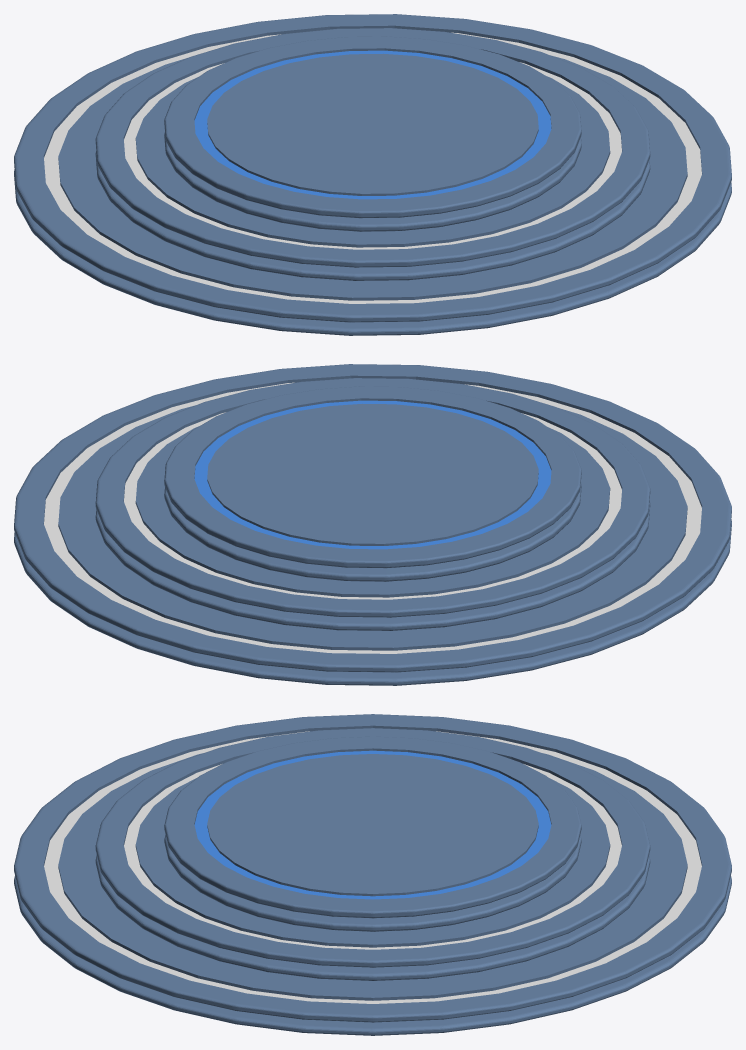
The model's file is Projecteur.fbx.
3 renders of one model, top to bottom at view 1: azimuth 30°, elevation 25°; view 2: azimuth 150°, elevation 25°; view 3: azimuth 270°, elevation 25°, orthographic.
Parts seen in each view (by area): view 1: Circle; view 2: Circle; view 3: Circle.
Boxes of the visible parts, x1,y1,x2,y2 form: Circle: (14, 14, 731, 335); Circle: (14, 364, 731, 685); Circle: (14, 714, 731, 1035).
Size of the model in its own units: 372 by 35.13 by 372.
